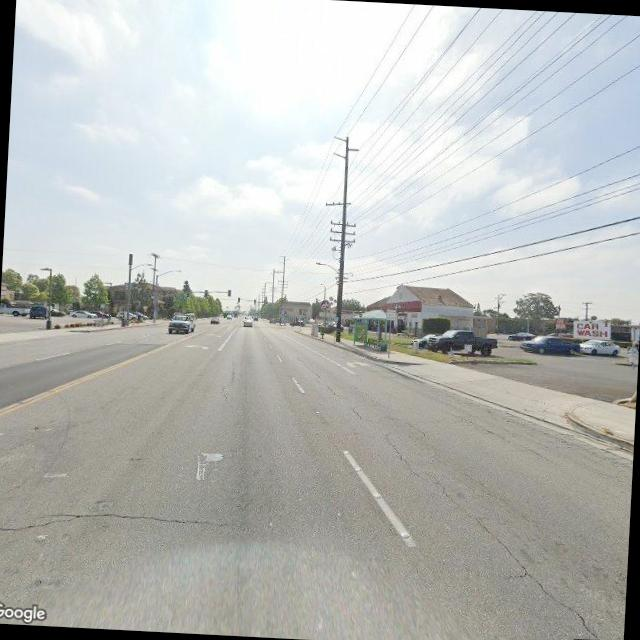crack: (372, 436, 607, 636), (0, 500, 228, 549), (299, 360, 341, 397), (215, 354, 239, 406)
